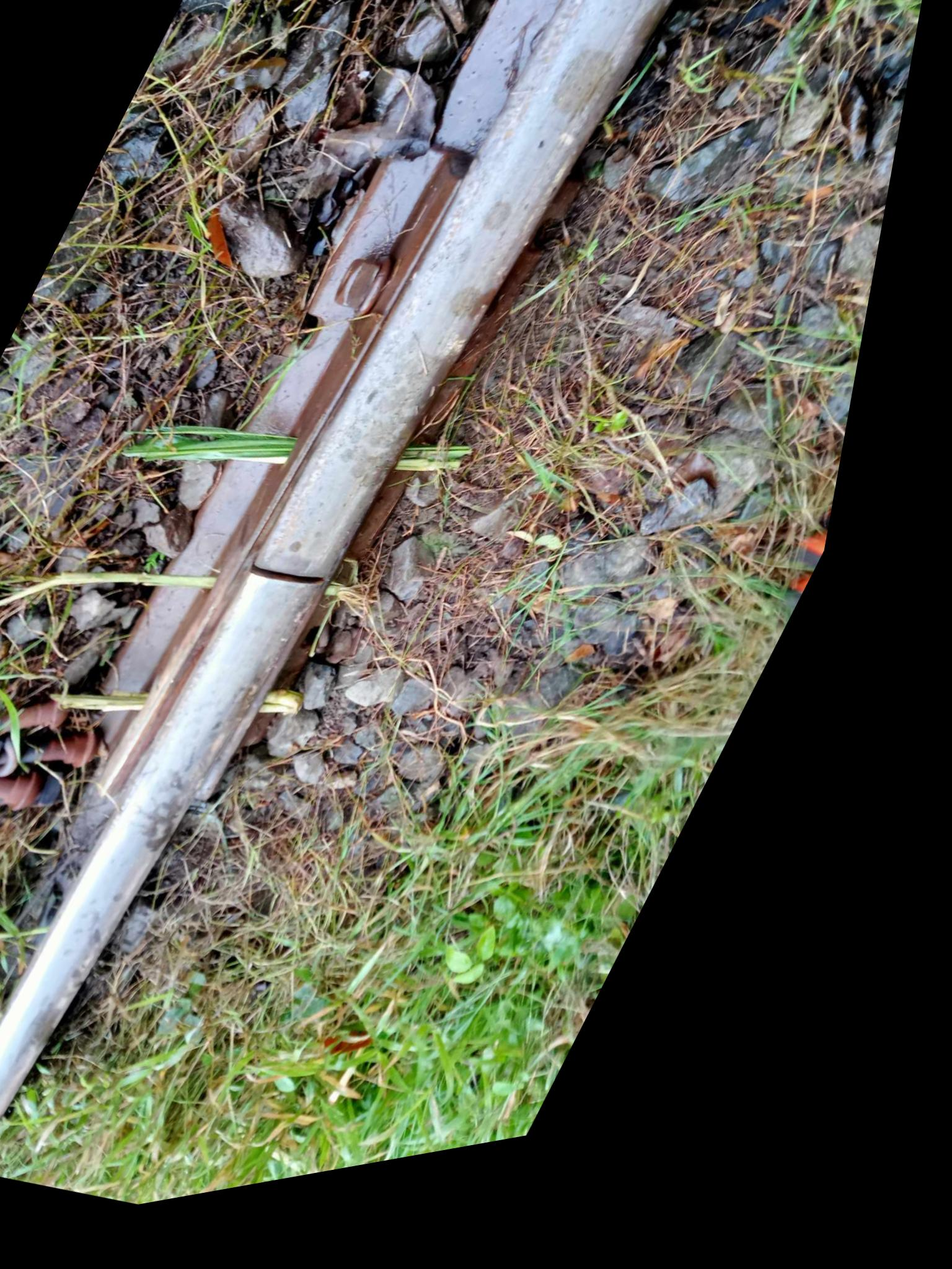person: (227, 504, 401, 681)
